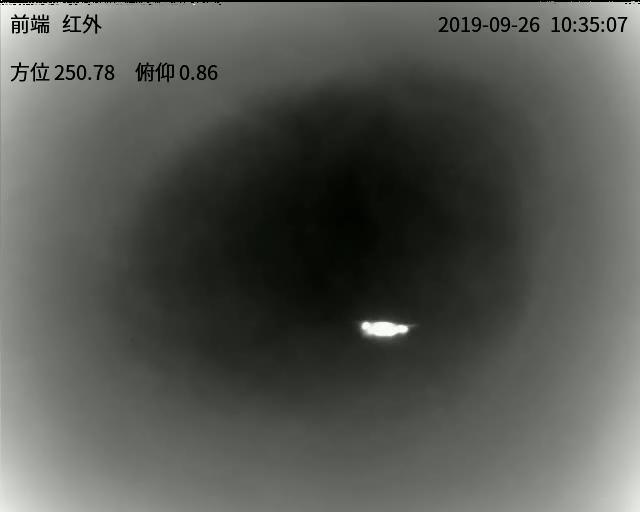uav: (360, 316, 412, 338)
